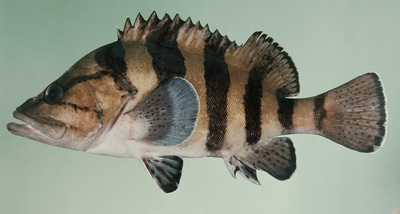fish: (7, 12, 387, 193)
